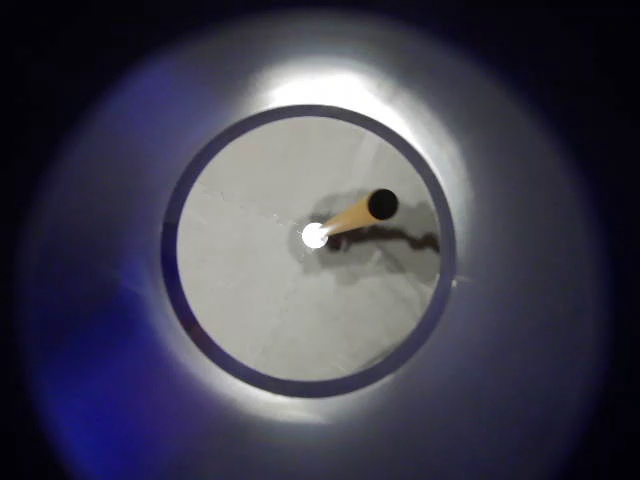tip: (353, 182, 403, 227)
